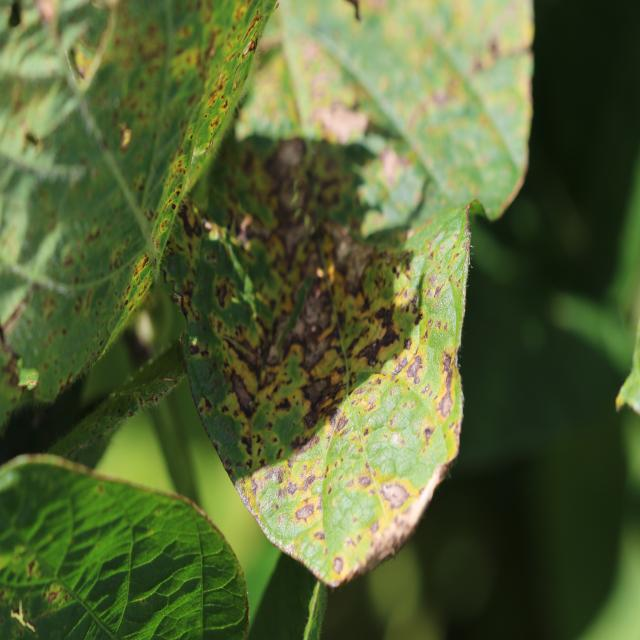Bacterial_Blight: (260, 137, 315, 227), (273, 283, 343, 344), (0, 319, 36, 413), (330, 231, 377, 298), (364, 298, 408, 368), (250, 226, 290, 288), (317, 100, 368, 146), (347, 374, 391, 423), (130, 381, 180, 414), (300, 376, 334, 419), (122, 323, 154, 367), (229, 371, 255, 417), (227, 335, 259, 371), (273, 137, 305, 172), (176, 201, 202, 240), (234, 212, 258, 250), (380, 481, 410, 509), (435, 379, 455, 420), (294, 430, 321, 459), (43, 583, 66, 608), (177, 292, 191, 321), (295, 503, 315, 522), (424, 273, 441, 295), (266, 342, 281, 365), (119, 125, 132, 150), (486, 37, 500, 60), (441, 351, 453, 376), (242, 38, 257, 58), (284, 479, 300, 496), (24, 131, 40, 147), (422, 425, 435, 443), (357, 473, 372, 488), (275, 467, 286, 485), (26, 559, 37, 577), (189, 343, 199, 355), (416, 312, 424, 324), (152, 257, 157, 268)
Soybean: (159, 0, 533, 587)
